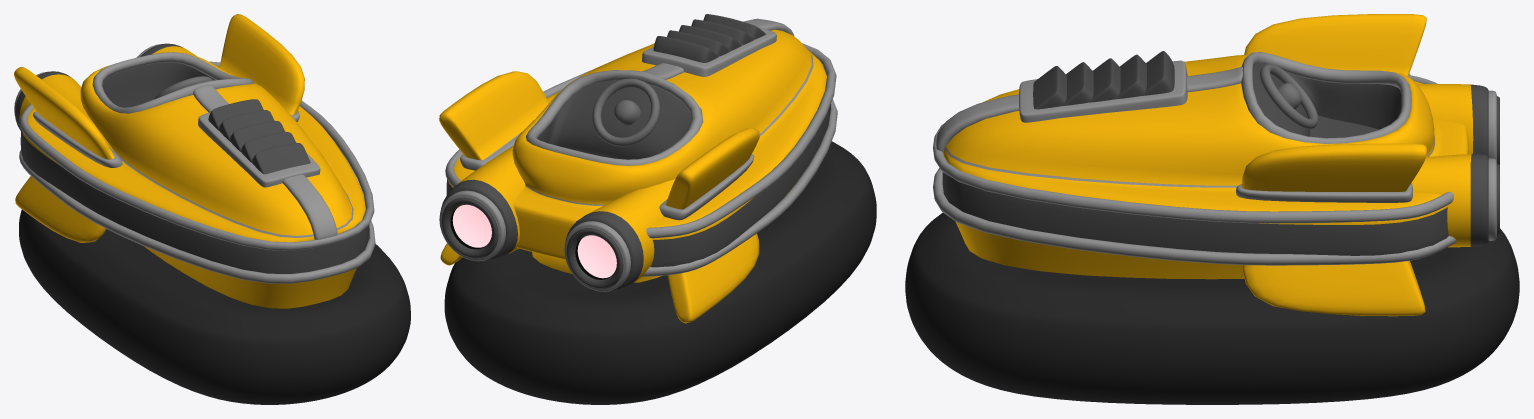
The model's file is PH_Car_B.fbx.
3 renders of one model, left to right at view 1: azimuth 30°, elevation 25°; view 2: azimuth 150°, elevation 25°; view 3: azimuth 270°, elevation 25°, orthographic. The views are drawn at different scales.
Visible parts, largest first — view 1: mesh_Car_Menu_B; view 2: mesh_Car_Menu_B; view 3: mesh_Car_Menu_B.
Boxes of the visible parts, box(x1,y1,x2,y2) form: mesh_Car_Menu_B: box(14, 14, 410, 404); mesh_Car_Menu_B: box(439, 14, 876, 404); mesh_Car_Menu_B: box(905, 14, 1519, 404).
Bounding box in the file's own units: 1.79 × 1.53 × 2.97.
